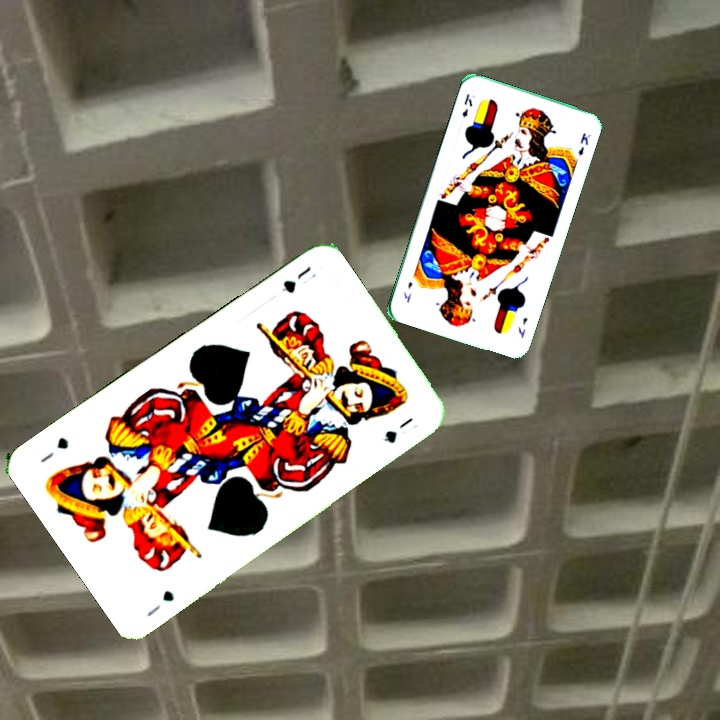EK: (458, 89, 475, 120), (514, 313, 530, 341)
GU: (277, 262, 320, 296), (143, 586, 177, 620)
